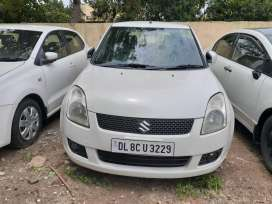license_plate: (112, 137, 176, 158)
